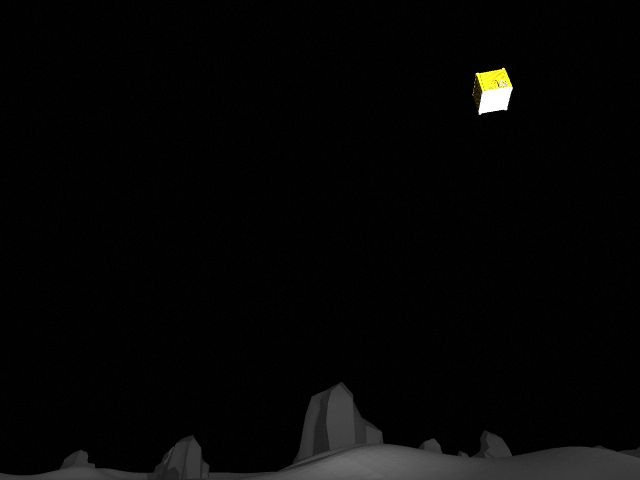cubesat: (467, 63, 515, 118)
